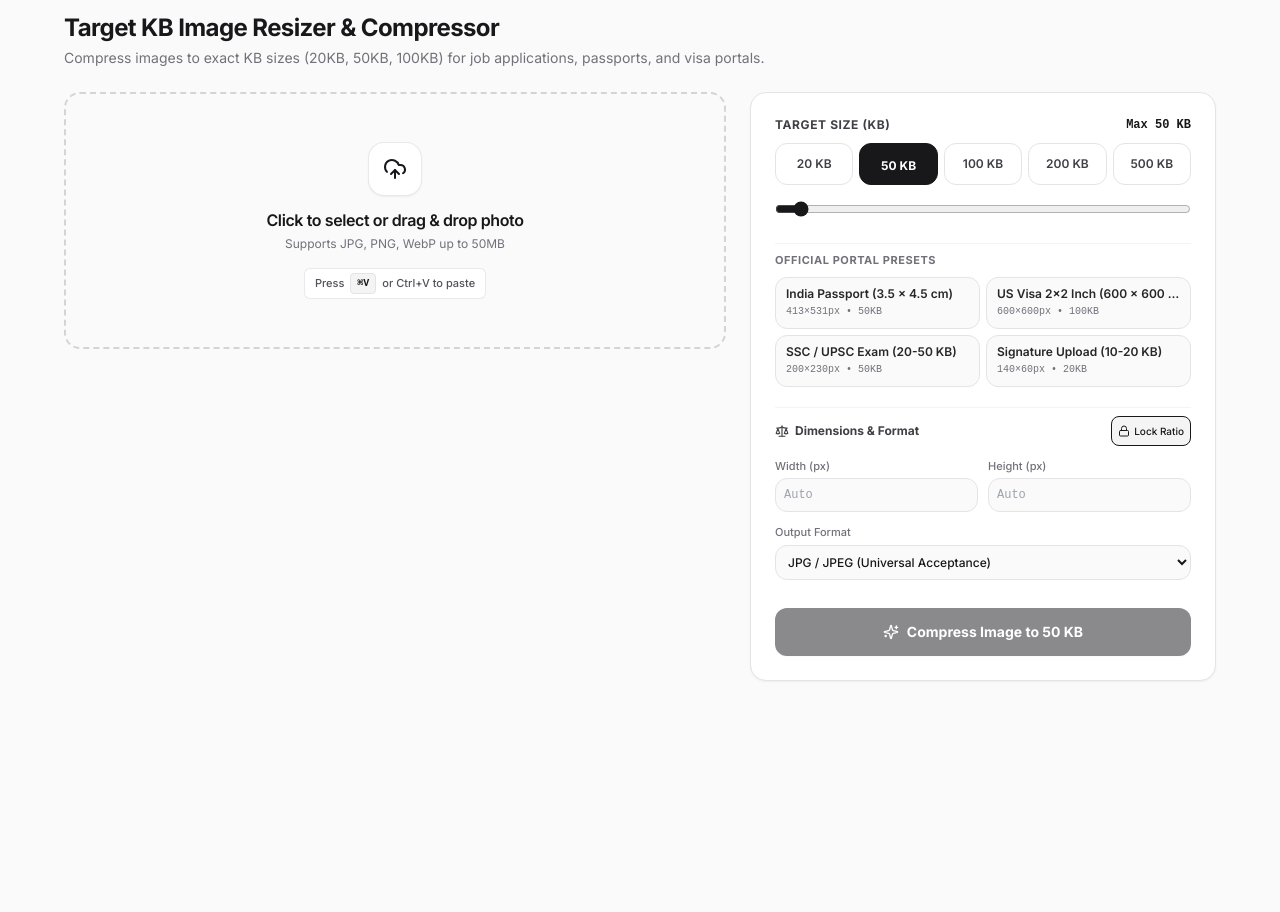
Target KB and Image Tools Suite › KbImageResizerTool Component › renders quick KB target pills and changes target KB on click
The image size is (1280, 912).
Click the button "20 KB" at {"x": 814, "y": 164}, box [775,143,853,185]
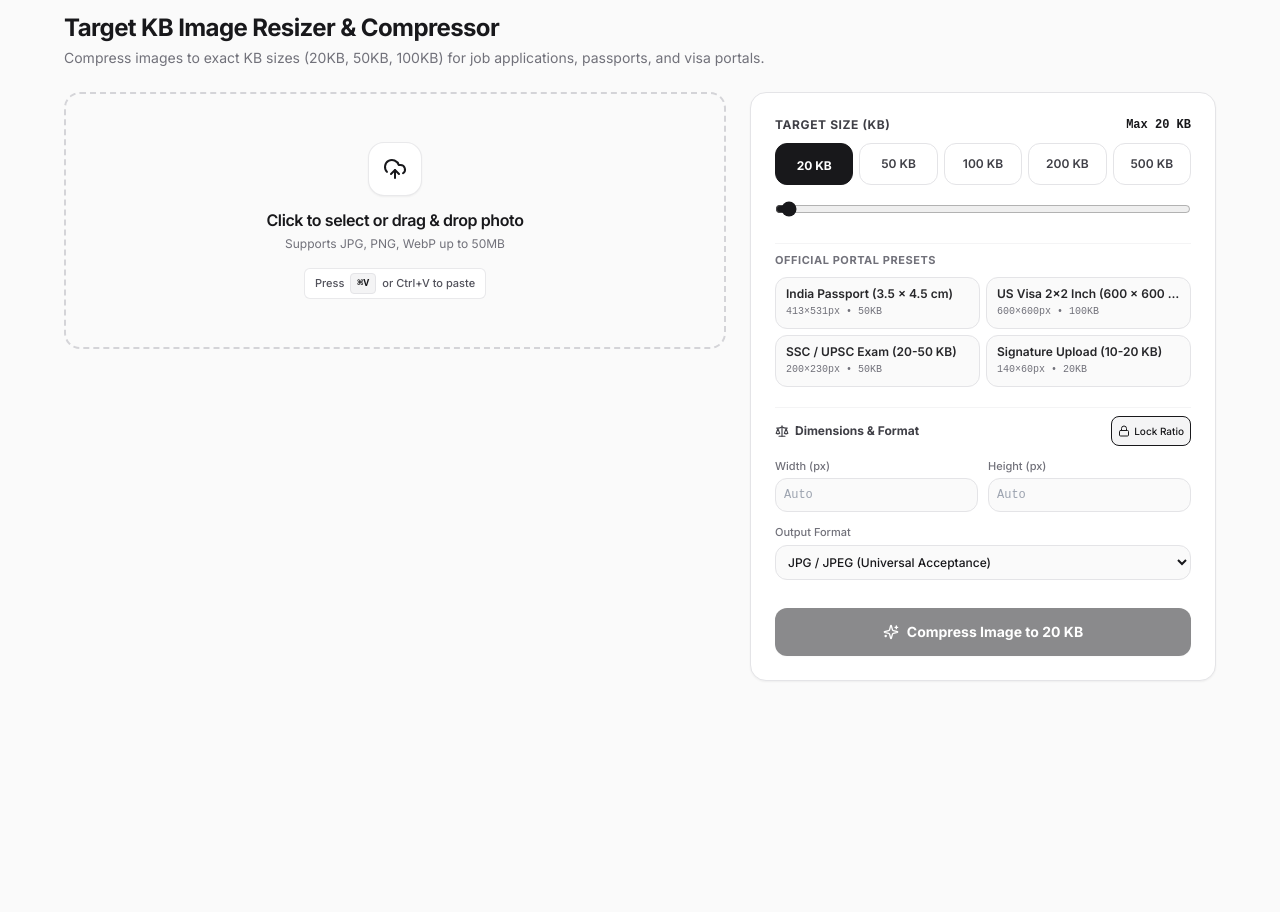
Check: the text "Max 20 KB" is shown, box [1126,117,1191,133]
